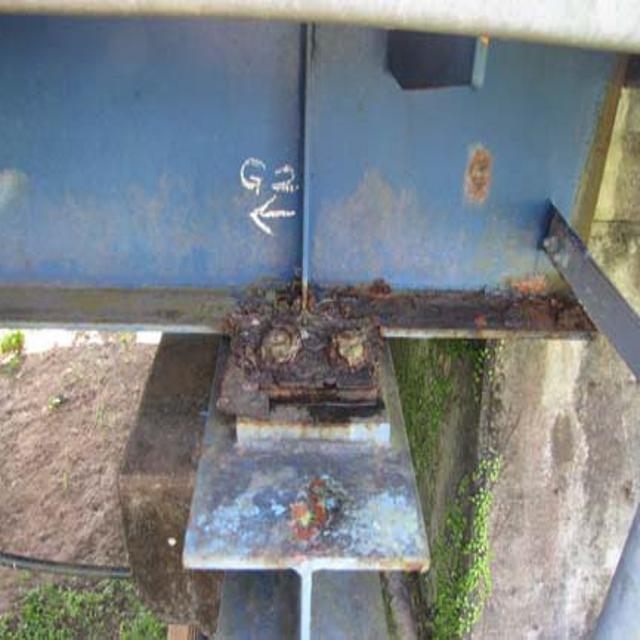corrosion: (227, 276, 396, 444), (413, 257, 597, 343), (449, 130, 504, 206)
